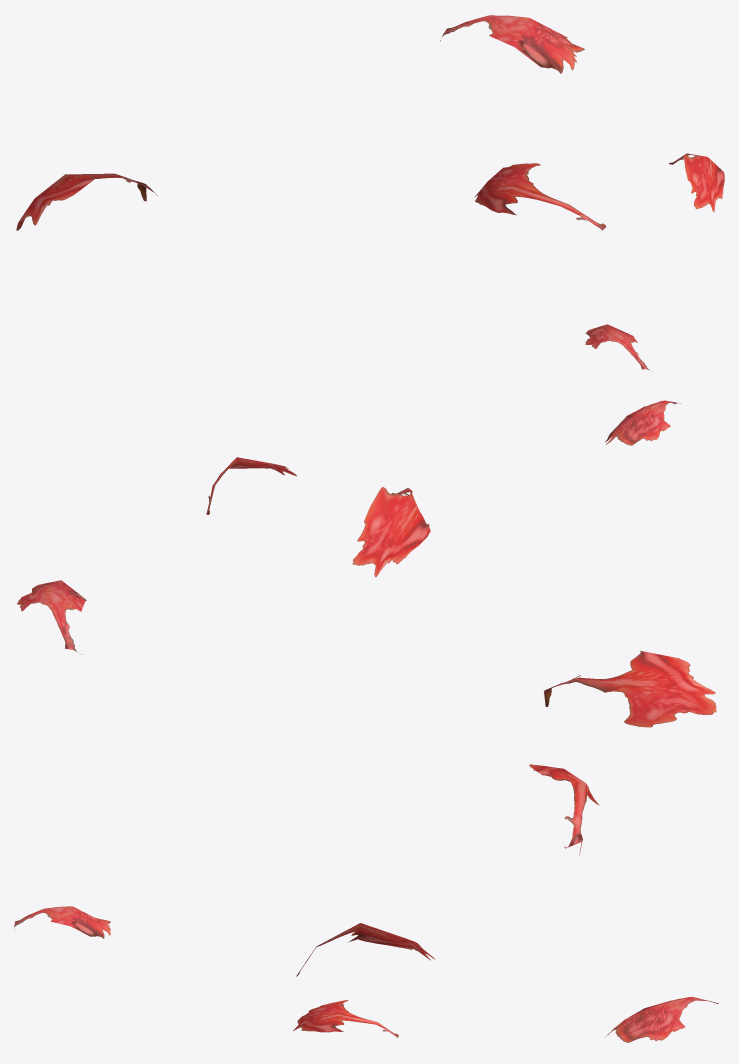
Rendered from SM_petals_01.fbx.
3 renders of one model, top to bottom at view 1: azimuth 30°, elevation 25°; view 2: azimuth 150°, elevation 25°; view 3: azimuth 270°, elevation 25°, orthographic. The views are drawn at different scales.
Parts seen in each view (by area): view 1: SM_petals_01_LOD0; view 2: SM_petals_01_LOD0; view 3: SM_petals_01_LOD0.
Part boxes in pixels (left/top/right/bottom): SM_petals_01_LOD0: left=16, top=15, right=724, bottom=371; SM_petals_01_LOD0: left=17, top=400, right=716, bottom=727; SM_petals_01_LOD0: left=14, top=764, right=718, bottom=1042.
Bounding box in the file's own units: 71.29 × 78.62 × 6.4.
1 material, 1 textured.
